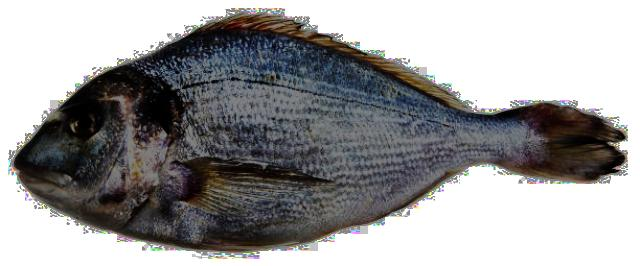Healthy Fish: (12, 14, 628, 254)
